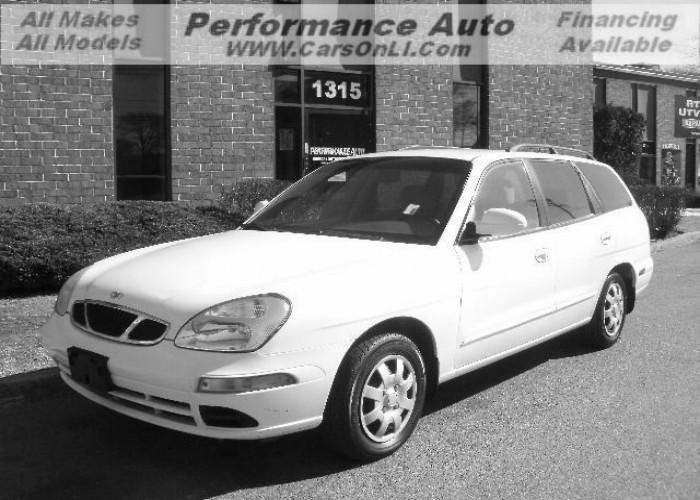car: (42, 142, 655, 457)
